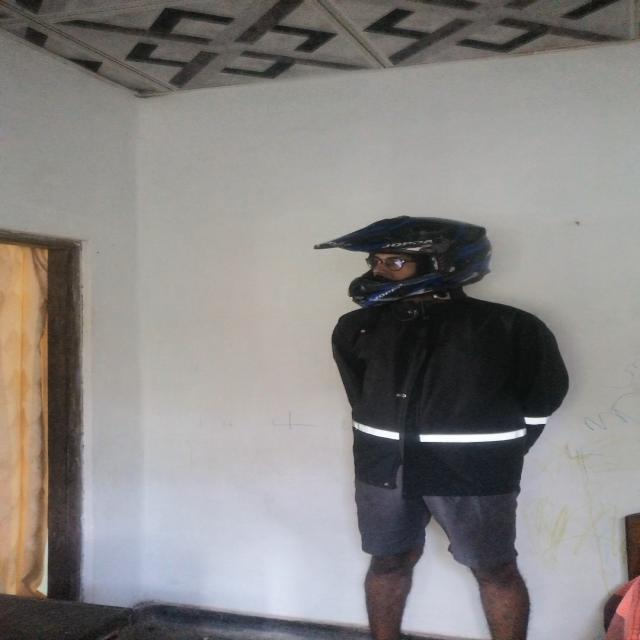Helmet_Wearer: (310, 207, 494, 328)
Jacket_Wearer: (317, 294, 575, 504)
Person: (318, 220, 570, 640)
